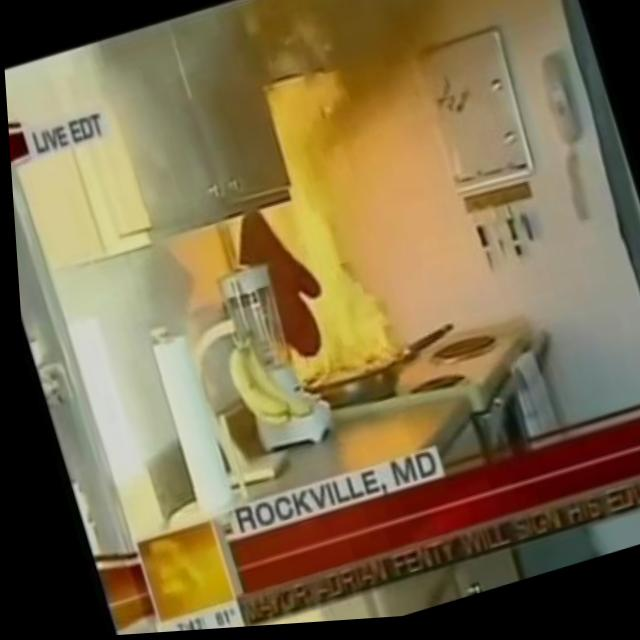fire: (219, 126, 411, 410)
